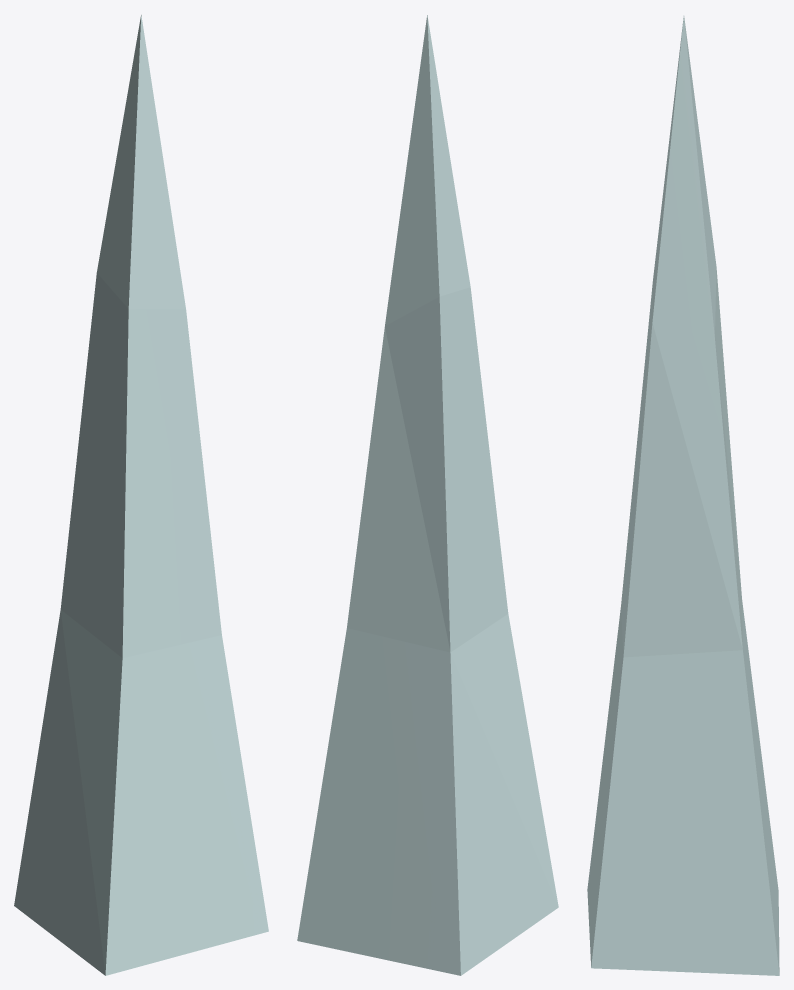
Rendered from tree-pyramid_white.glb.
The picture shows the model from 3 angles, left to right: view 1: azimuth 30°, elevation 25°; view 2: azimuth 150°, elevation 25°; view 3: azimuth 270°, elevation 25°; orthographic projection.
Visible parts, largest first — view 1: tree-pyramid_winter; view 2: tree-pyramid_winter; view 3: tree-pyramid_winter.
Part boxes in pixels (left/top/right/bottom): tree-pyramid_winter: left=14, top=15, right=268, bottom=975; tree-pyramid_winter: left=297, top=15, right=558, bottom=975; tree-pyramid_winter: left=587, top=15, right=779, bottom=975.
Bounding box in the file's own units: 1.42 × 7.43 × 1.41.
Materials: 1 (1 with a texture image).
